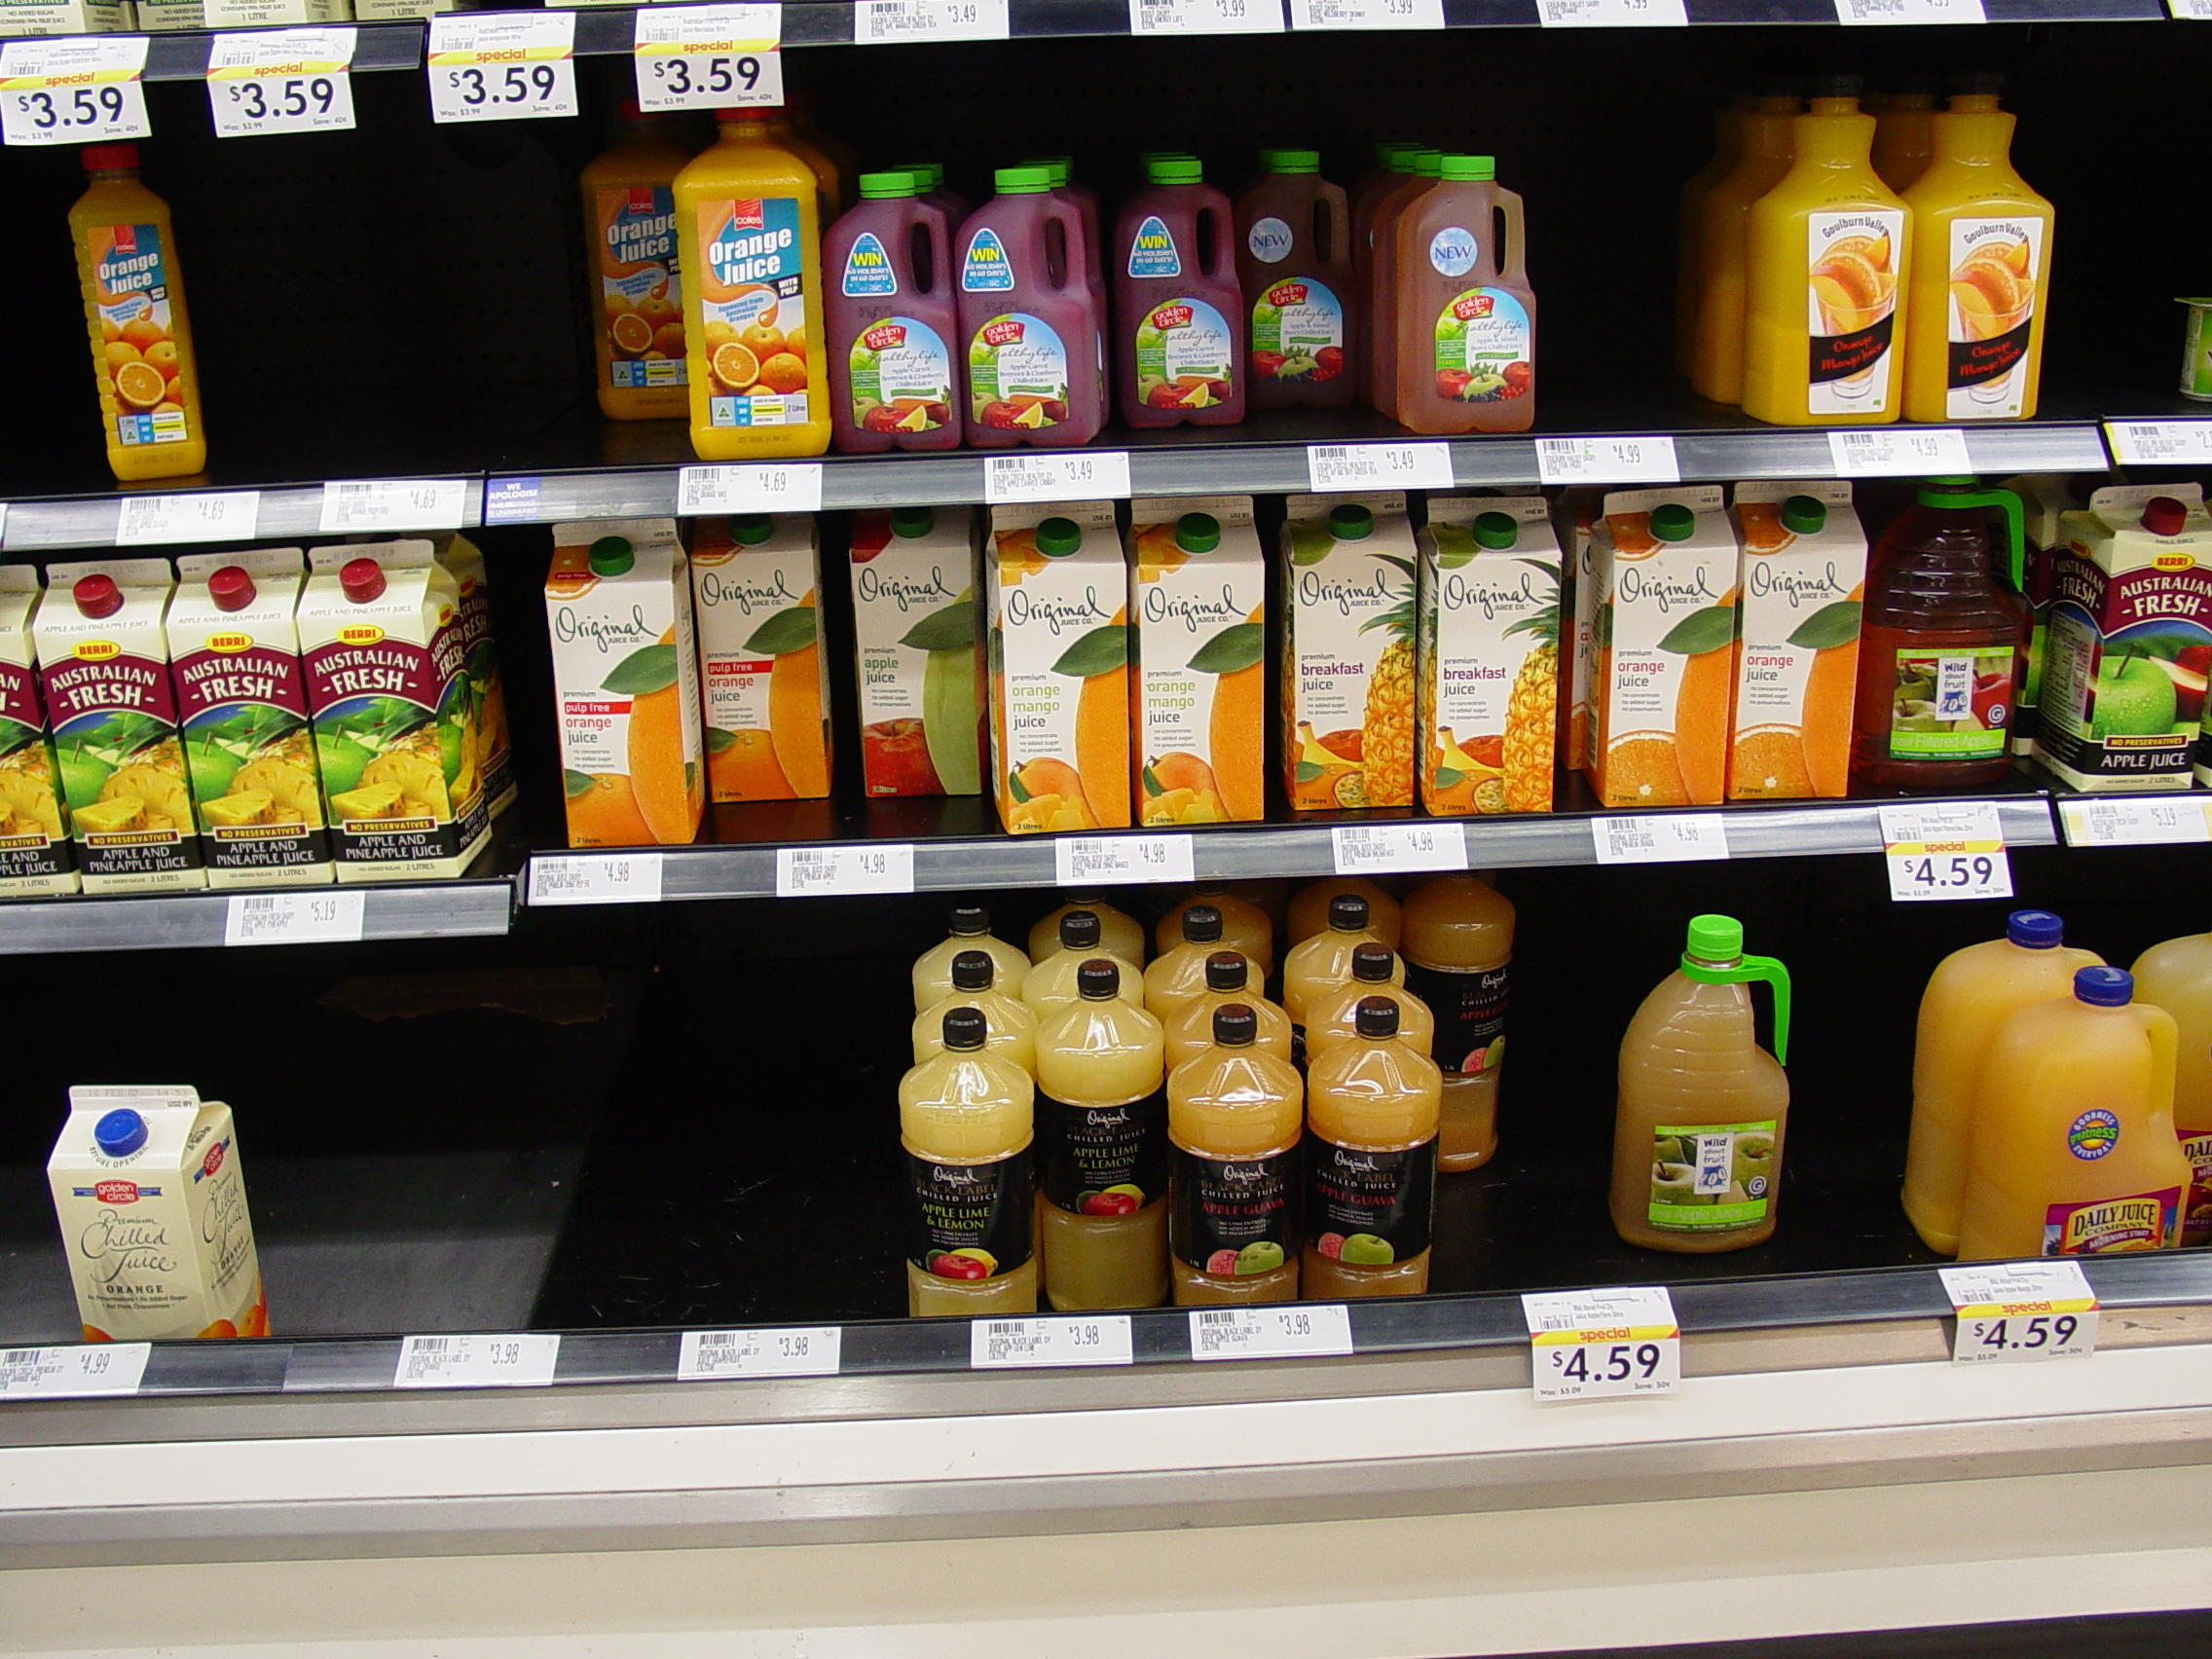Out-of-stock: (260, 960, 888, 1319), (212, 131, 587, 469), (1547, 87, 1738, 427)
